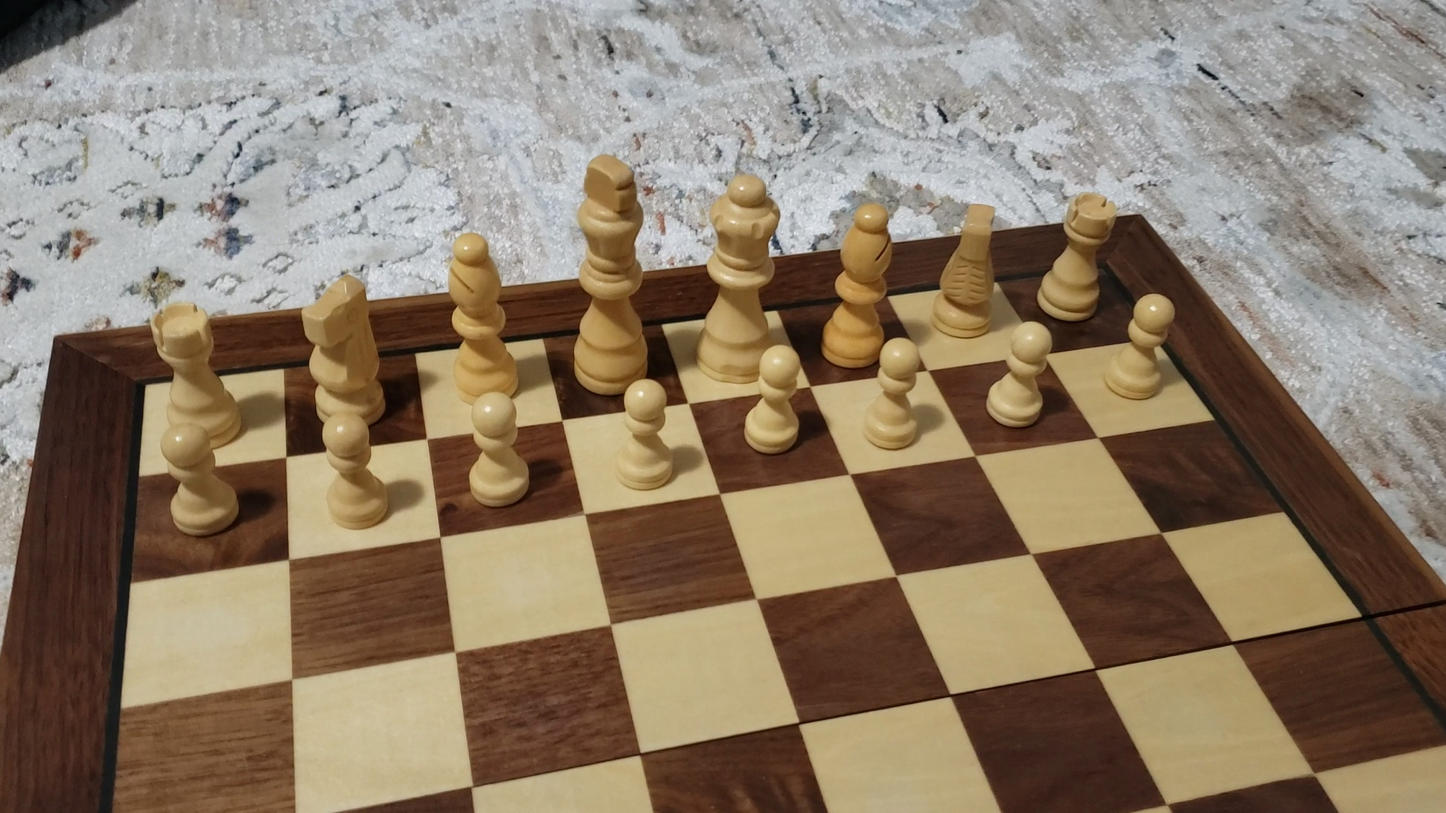white-bishop: (449, 230, 519, 406), (823, 200, 892, 369)
white-king: (574, 157, 654, 394)
white-knight: (302, 270, 385, 429), (932, 202, 1000, 341)
white-pawn: (153, 424, 253, 551), (307, 409, 398, 538), (603, 372, 681, 498), (463, 388, 538, 516), (739, 343, 816, 458), (857, 336, 931, 452), (1104, 292, 1175, 400), (985, 320, 1051, 428)
white-queen: (685, 165, 792, 384)
white-rook: (152, 297, 241, 448), (1034, 189, 1116, 324)
